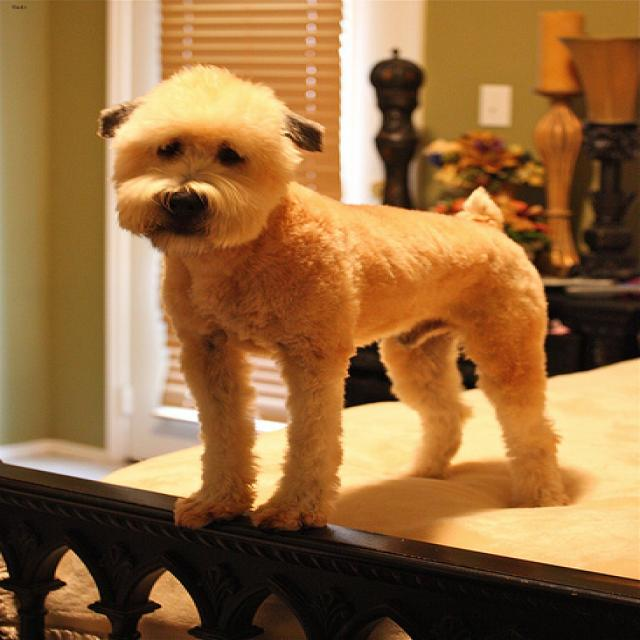dog-wheaten_terrier: (86, 50, 589, 541)
